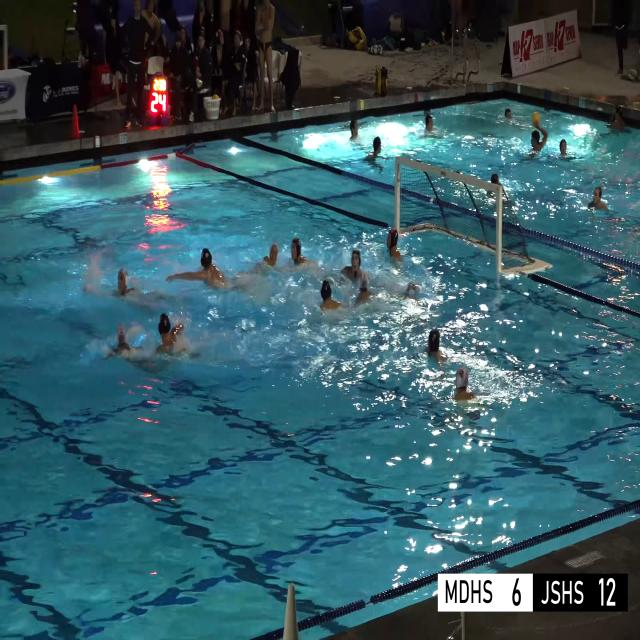ball: (532, 112, 539, 125), (212, 94, 220, 99)
